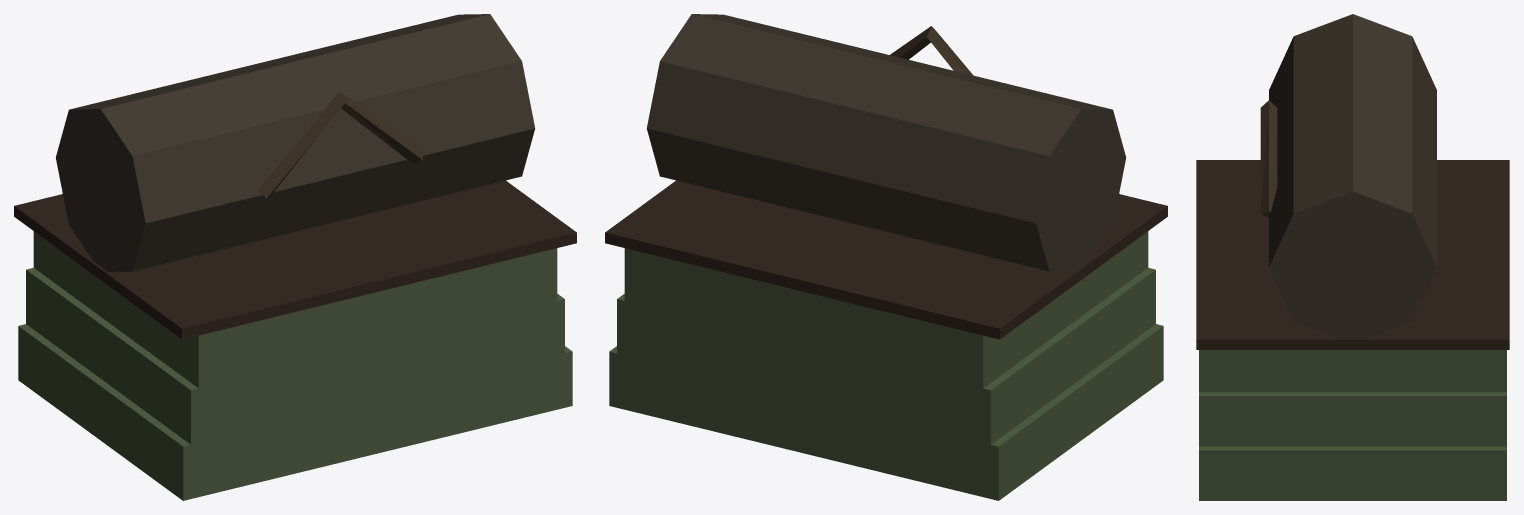
File: clothes-travelers.lod.glb
3 views of the same model, side by side, from view 1: azimuth 30°, elevation 25°; view 2: azimuth 150°, elevation 25°; view 3: azimuth 270°, elevation 25° (orthographic). The views are drawn at different scales.
Visible parts, largest first — view 1: m; view 2: m; view 3: m.
Part boxes in pixels (x1,y1,x2,y2): m: [14, 14, 576, 500]; m: [605, 14, 1167, 500]; m: [1196, 14, 1509, 500].
Bounding box in the file's own units: 0.15 × 0.1214 × 0.1105.
